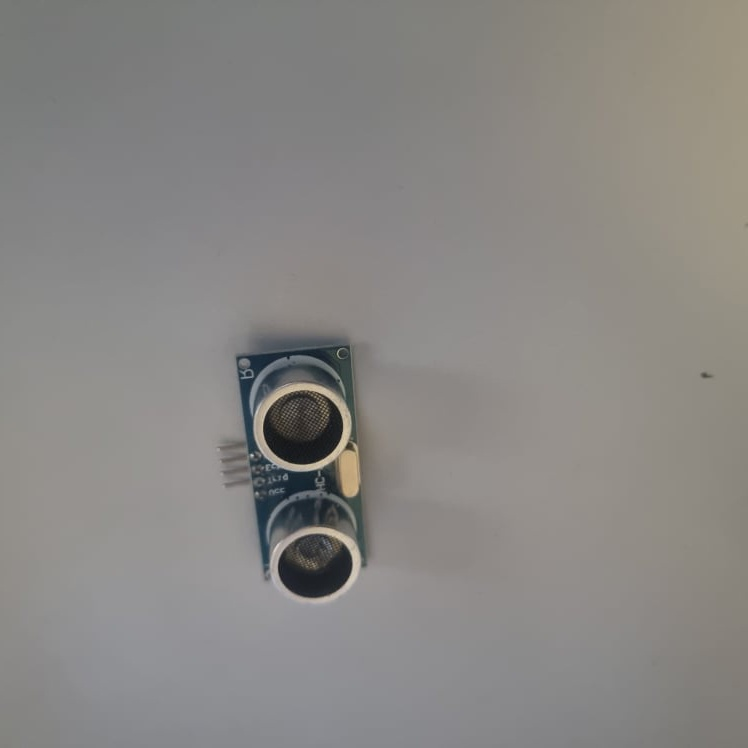SENSOR: (231, 343, 371, 607)
